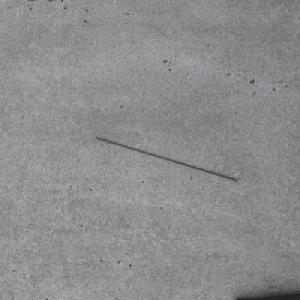LuggagePart: (94, 137, 237, 181)
